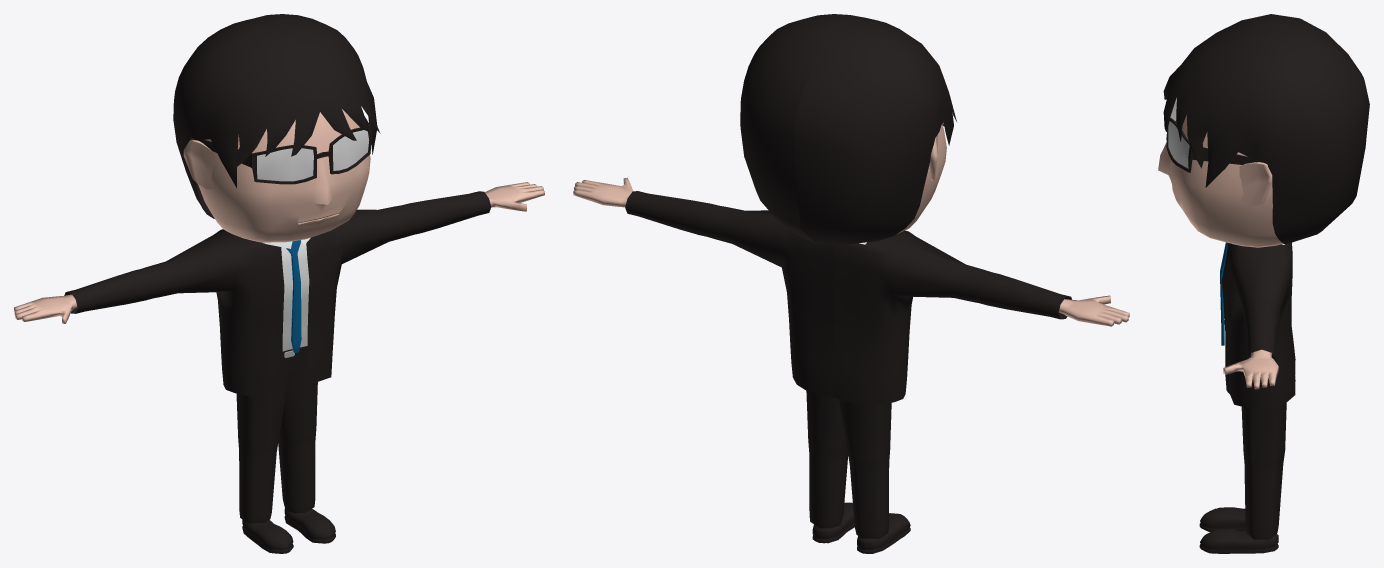
Rendered from normal man.fbx.
The picture shows the model from 3 angles, left to right: view 1: azimuth 30°, elevation 25°; view 2: azimuth 150°, elevation 25°; view 3: azimuth 270°, elevation 25°; orthographic projection. The views are drawn at different scales.
Parts seen in each view (by area): view 1: suit, hair, face, pants, glasses, shirt, hand1, shoe_l, shoe_r, hand, necktie2; view 2: hair, suit, pants, hand1, hand, face, shoe_r, shoe_l; view 3: hair, suit, face, pants, shoe_l, glasses, hand, shoe_r, necktie2.
Boxes of the visible parts, x1,y1,x2,y2 form: suit: (64,191,491,396); hair: (173,14,380,218); face: (183,109,370,242); pants: (236,346,317,523); glasses: (194,116,372,184); shirt: (281,240,309,351); hand1: (14,294,77,323); shoe_l: (284,508,335,543); shoe_r: (242,519,293,553); hand: (484,182,544,211); necktie2: (287,241,301,352); hair: (740,14,956,244); suit: (625,191,1071,404); pants: (806,391,891,538); hand1: (1059,295,1129,326); hand: (573,177,632,207); face: (897,124,946,233); shoe_r: (857,513,910,553); shoe_l: (812,502,854,543); hair: (1163,14,1369,243); suit: (1222,242,1295,410); face: (1158,115,1282,247); pants: (1241,403,1286,539); shoe_l: (1199,528,1278,553); glasses: (1166,97,1267,172); hand: (1223,349,1278,389); shoe_r: (1199,507,1245,531); necktie2: (1220,242,1228,345).
Size of the model in its own units: 113 by 102 by 38.49.
